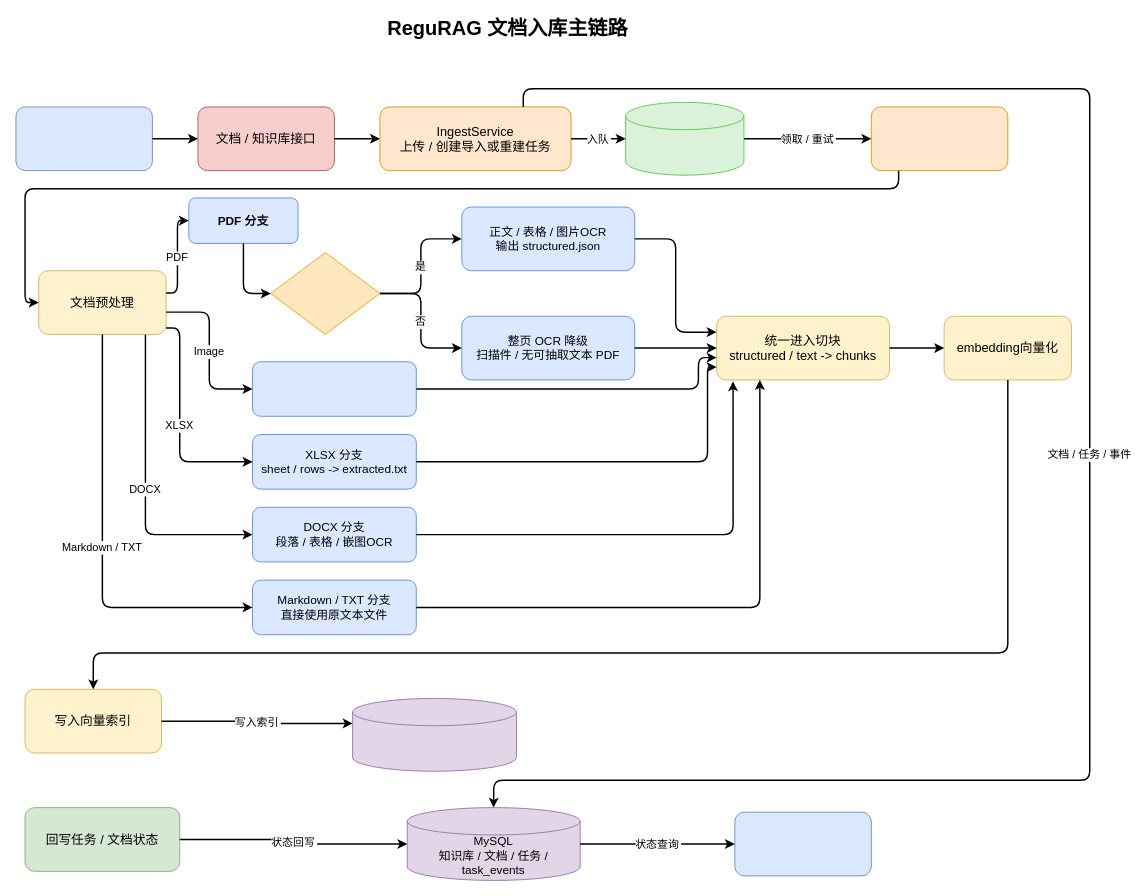
Image size: 1148x896. Some labels were removed from this diagram. Each missing label, with the box of its shape:
Chroma / Milvus 向量索引: (352, 698, 516, 771)
Image 分支 单图 OCR -> structured.json: (252, 361, 416, 416)
PDF 可直接抽取?: (270, 252, 380, 334)
Redis 任务队列: (625, 101, 744, 175)
TaskWorker 领取 / 重试 / 确认: (870, 106, 1008, 171)
前端任务页 TaskMonitorView: (734, 811, 871, 876)
前端文档页 DocumentsView: (15, 106, 152, 171)
